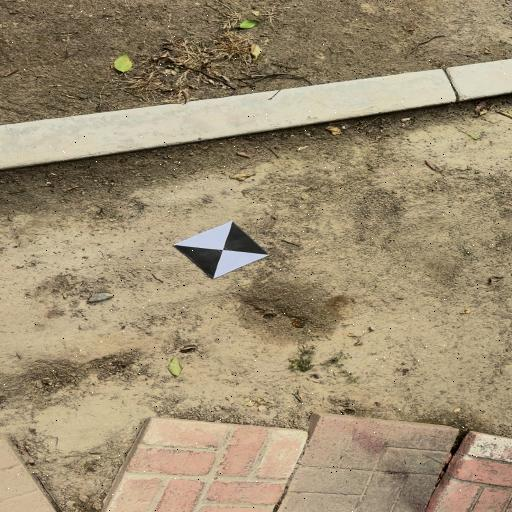target: (174, 222, 271, 279)
